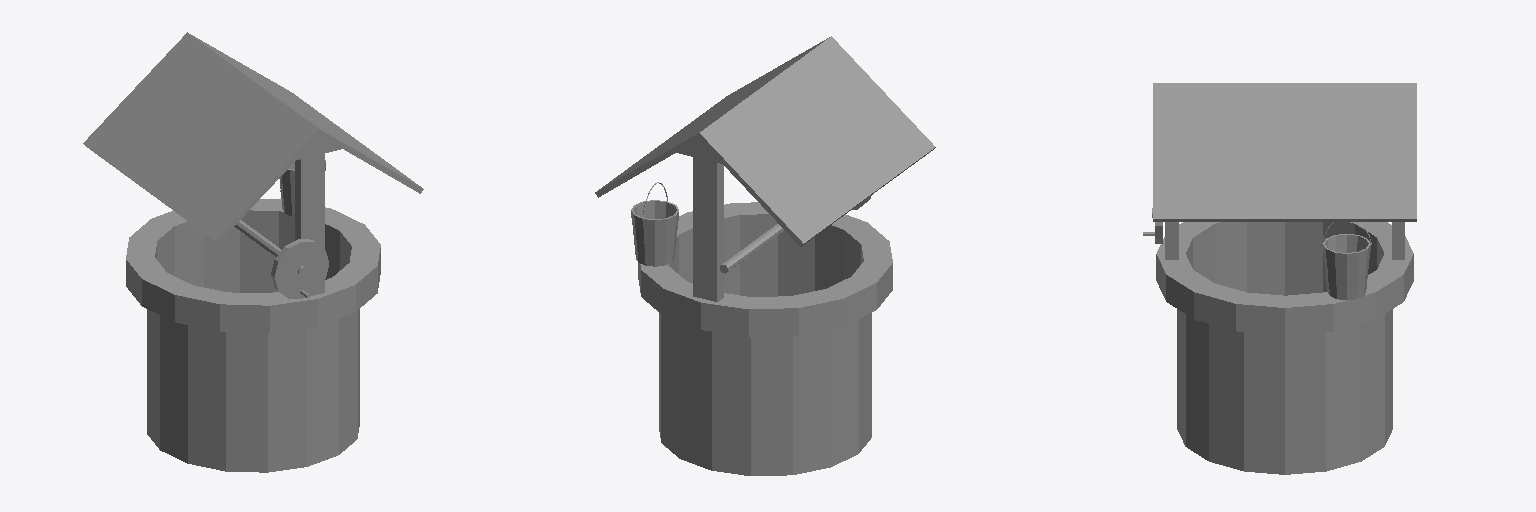
The model's file is well.obj.
The picture shows the model from 3 angles: view 1: azimuth 30°, elevation 25°; view 2: azimuth 150°, elevation 25°; view 3: azimuth 270°, elevation 25°; orthographic projection.
Parts seen in each view (by area): view 1: Cylinder, Cube.002_Cube.003, Cube_Cube.001, Circle, Circle.001, Cube.003_Cube.004; view 2: Cylinder, Cube.002_Cube.003, Cube_Cube.001, Circle.001, Cube.003_Cube.004; view 3: Cylinder, Cube.002_Cube.003, Circle.001, Cube_Cube.001.
Part boxes in pixels (x1,y1,x2,y2): Cylinder: (126, 199, 380, 472); Cube.002_Cube.003: (83, 32, 423, 242); Cube_Cube.001: (295, 154, 324, 297); Circle: (271, 239, 328, 298); Circle.001: (279, 160, 325, 216); Cube.003_Cube.004: (234, 220, 307, 275); Cylinder: (638, 202, 892, 475); Cube.002_Cube.003: (595, 36, 935, 246); Cube_Cube.001: (693, 157, 723, 301); Circle.001: (631, 182, 678, 266); Cube.003_Cube.004: (720, 224, 784, 273); Cylinder: (1156, 222, 1413, 474); Cube.002_Cube.003: (1153, 83, 1416, 221); Circle.001: (1321, 222, 1371, 299); Cube_Cube.001: (1165, 222, 1404, 259).
Bounding box in the file's own units: 3.85 × 5.73 × 4.11.